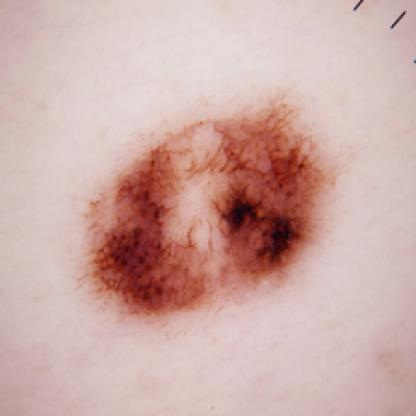benign: (89, 104, 327, 314)
